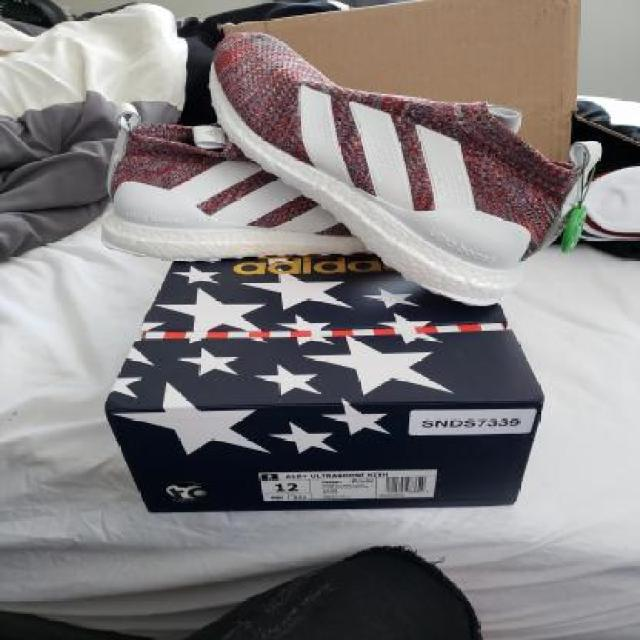shoes: (212, 29, 588, 305), (104, 125, 344, 261)
